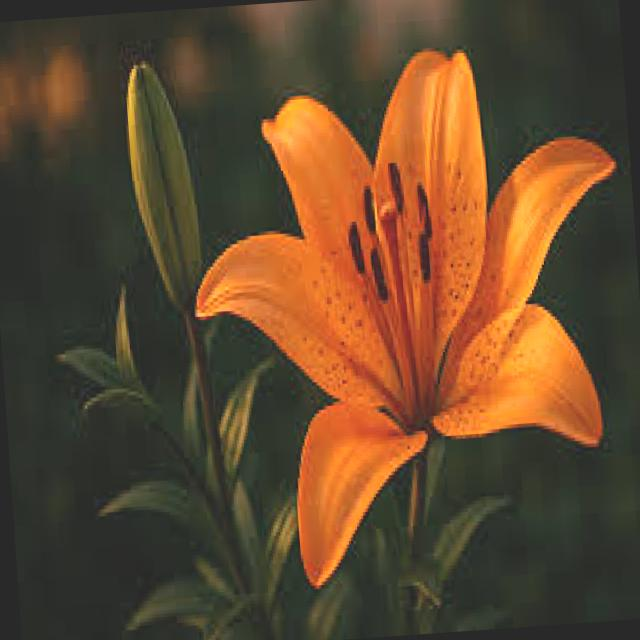lily: (169, 0, 640, 640)
